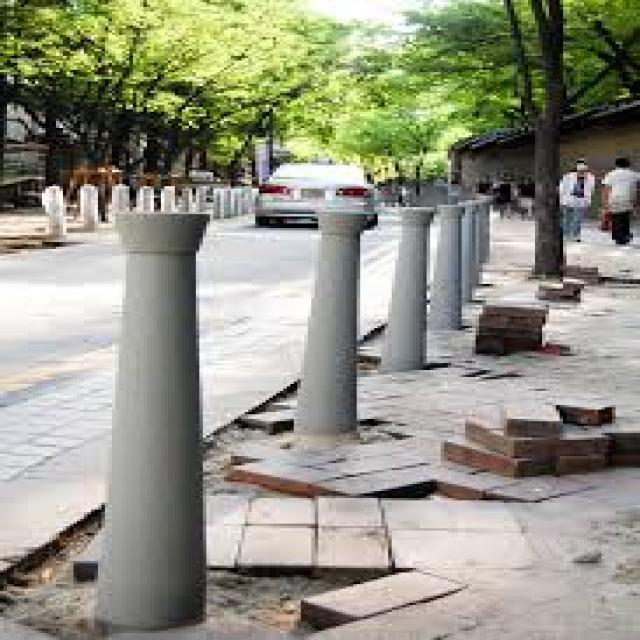bollard: (89, 202, 222, 635), (289, 199, 373, 453), (389, 204, 431, 378), (431, 192, 460, 352)
